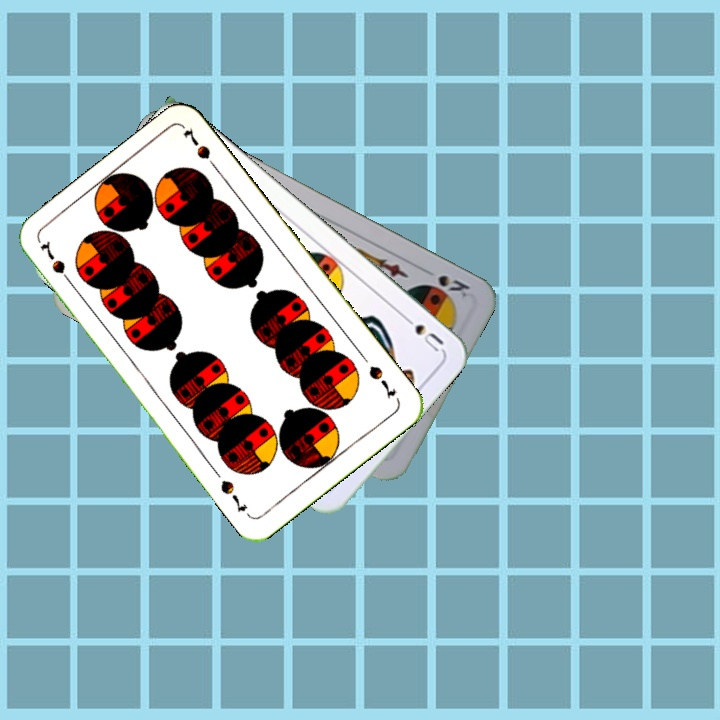S7: (36, 236, 77, 289), (364, 361, 399, 402)
SK: (422, 271, 473, 303)
SU: (396, 310, 446, 355)
